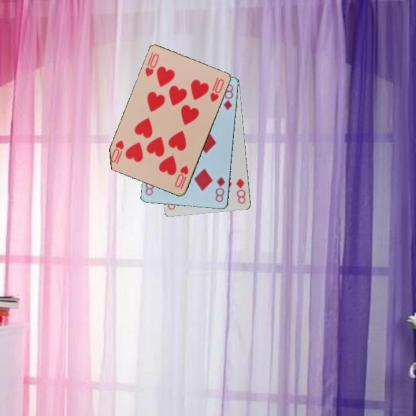10h: (172, 163, 190, 189), (143, 51, 160, 78)
8d: (212, 174, 226, 204), (233, 176, 247, 205)
